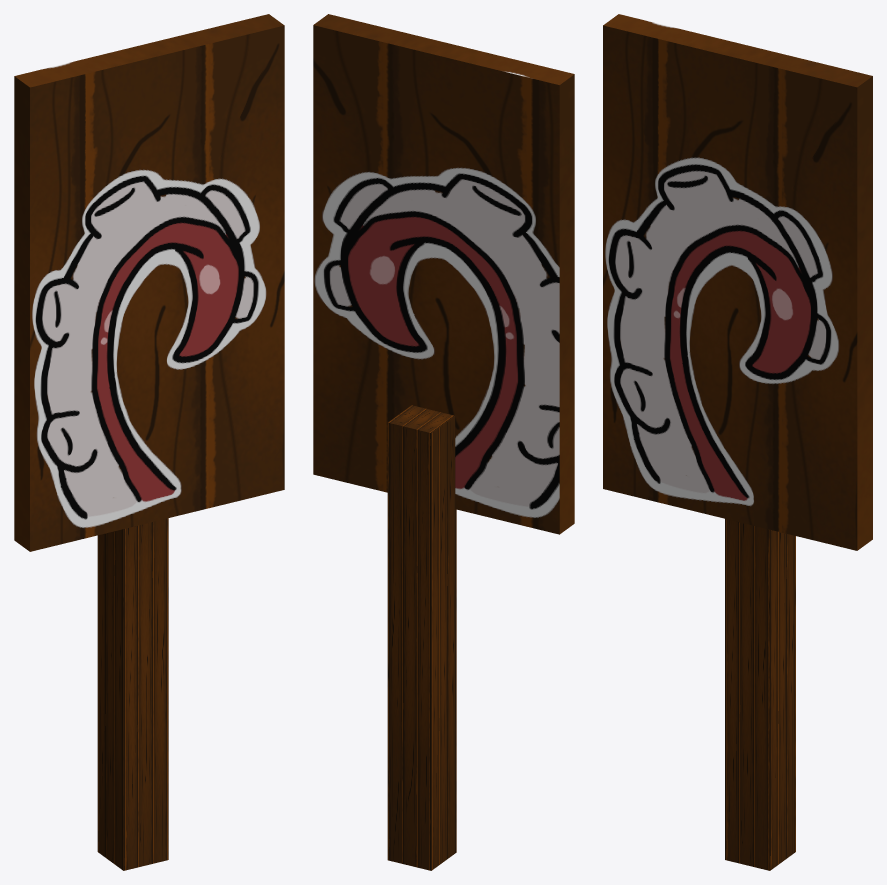
The model's file is Tentacle_Left_Idle_2.fbx.
3 renders of one model, left to right at view 1: azimuth 30°, elevation 25°; view 2: azimuth 150°, elevation 25°; view 3: azimuth 330°, elevation 25°, orthographic. The views are drawn at different scales.
Parts seen in each view (by area): view 1: Octopus_Balk14; view 2: Octopus_Balk14; view 3: Octopus_Balk14.
Part boxes in pixels (bbox=[...]): Octopus_Balk14: bbox=[14, 14, 284, 870]; Octopus_Balk14: bbox=[313, 14, 574, 870]; Octopus_Balk14: bbox=[603, 14, 872, 870].
Size of the model in its own units: 15.82 by 48.69 by 4.34.
Materials: 2 (2 with a texture image).
